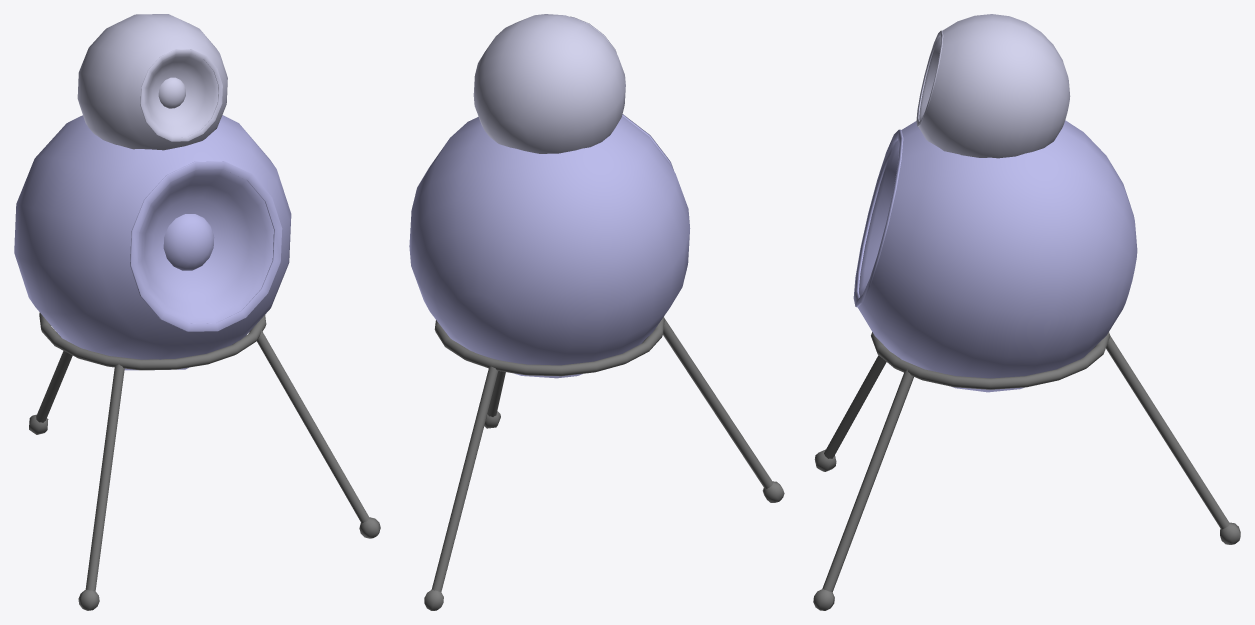
Rendered from stereo.fbx.
The picture shows the model from 3 angles, left to right: view 1: azimuth 30°, elevation 25°; view 2: azimuth 150°, elevation 25°; view 3: azimuth 270°, elevation 25°; orthographic projection. The views are drawn at different scales.
Parts seen in each view (by area): view 1: stereobig_low, stereosmall_low, torus_low, pole1_low, pole3_low, pole2_low; view 2: stereobig_low, stereosmall_low, torus_low, pole2_low, pole1_low; view 3: stereobig_low, stereosmall_low, torus_low, pole3_low, pole2_low, pole1_low.
Boxes of the visible parts, x1,y1,x2,y2 form: stereobig_low: (14,115,291,370); stereosmall_low: (77,14,227,150); torus_low: (39,312,266,370); pole1_low: (85,360,124,591); pole3_low: (257,330,369,523); pole2_low: (36,351,72,422); stereobig_low: (409,114,690,378); stereosmall_low: (473,14,625,153); torus_low: (434,317,664,376); pole2_low: (431,366,498,591); pole1_low: (663,318,772,488); stereobig_low: (853,120,1137,392); stereosmall_low: (916,14,1070,158); torus_low: (871,332,1110,389); pole3_low: (822,369,913,592); pole2_low: (1106,336,1229,529); pole1_low: (824,355,886,458).
Bounding box in the file's own units: 1.56 × 2.5 × 1.85.
